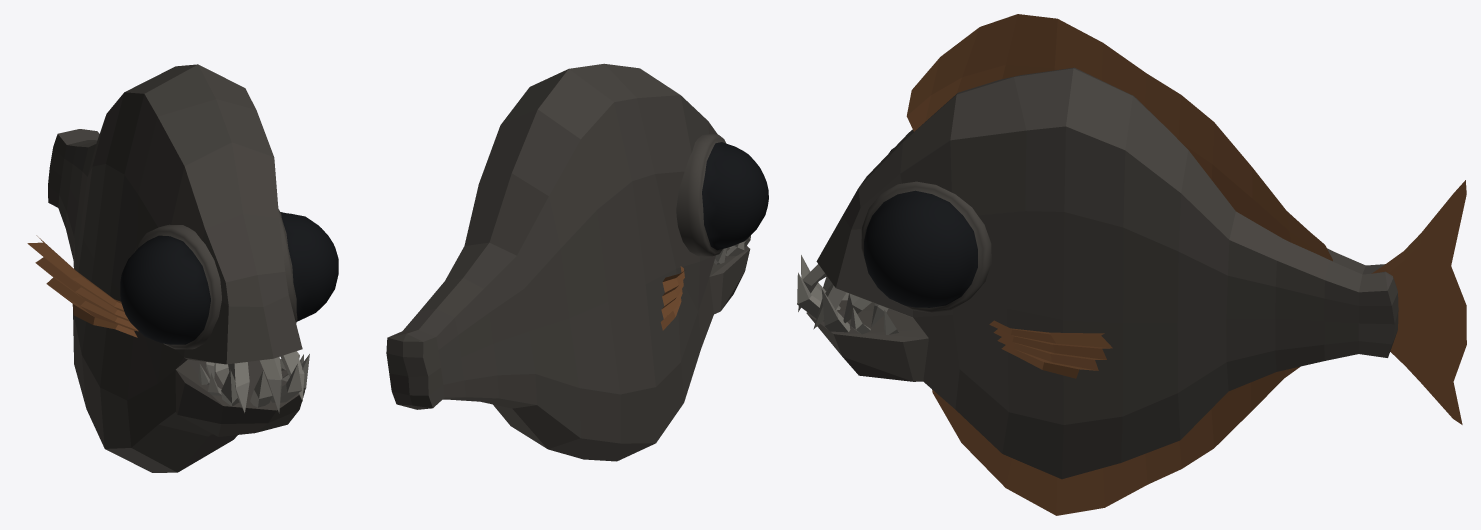
File: cc0-turbot-lod0.glb
3 renders of one model, left to right at view 1: azimuth 30°, elevation 25°; view 2: azimuth 150°, elevation 25°; view 3: azimuth 270°, elevation 25°, orthographic. The views are drawn at different scales.
Parts seen in each view (by area): view 1: part_0; view 2: part_0; view 3: part_0.
Boxes of the visible parts, x1,y1,x2,y2 form: part_0: (27, 64, 338, 472); part_0: (386, 63, 768, 461); part_0: (797, 14, 1466, 515).
Size of the model in its own units: 2.06 by 3.92 by 4.58.
